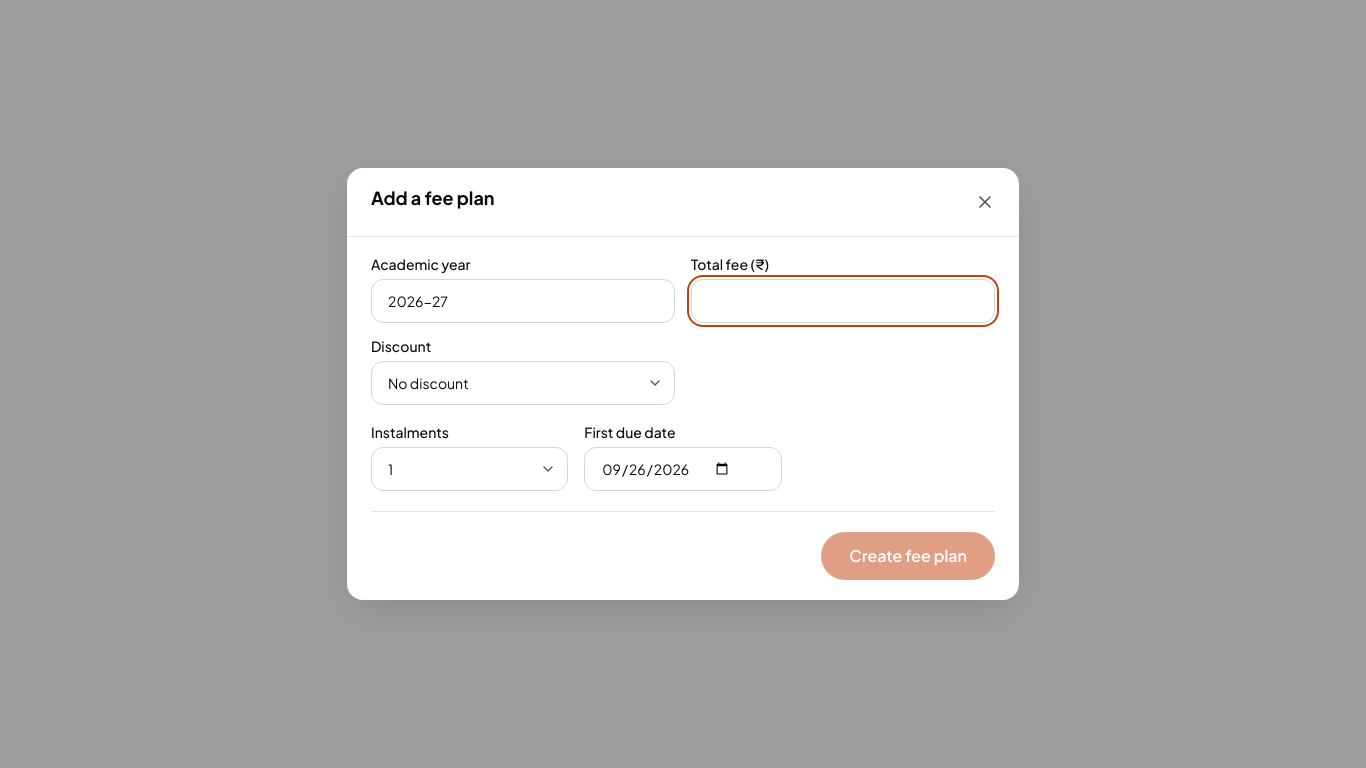
Test case: FeePlanDialog › will not create a plan whose instalments do not add up
This screenshot has width=1366, height=768.
Type "10000" into the field labelled "Total fee (₹)".
click(843, 301); type("10000")  # box [691,279,995,323]
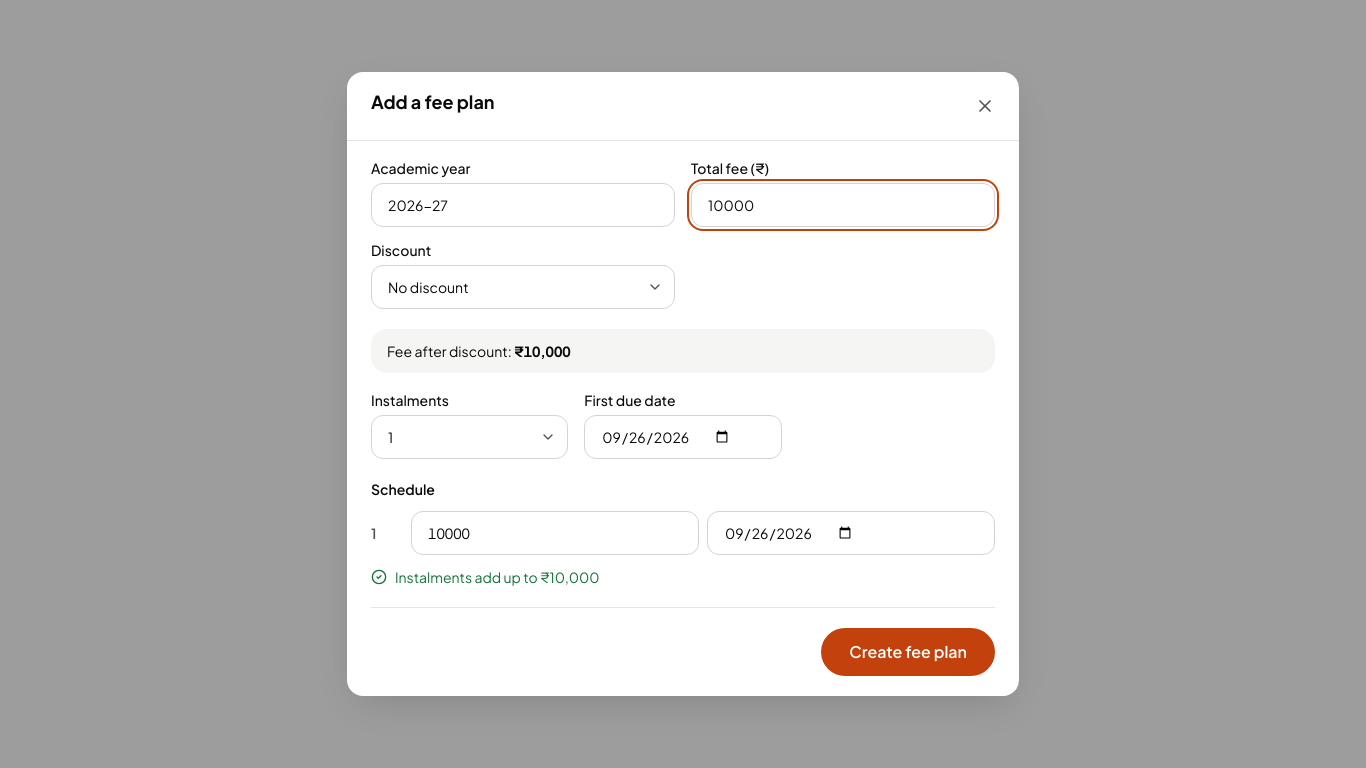
Select "2" in the dropdown labelled "Instalments" at [470, 437], box [371,415,568,459]
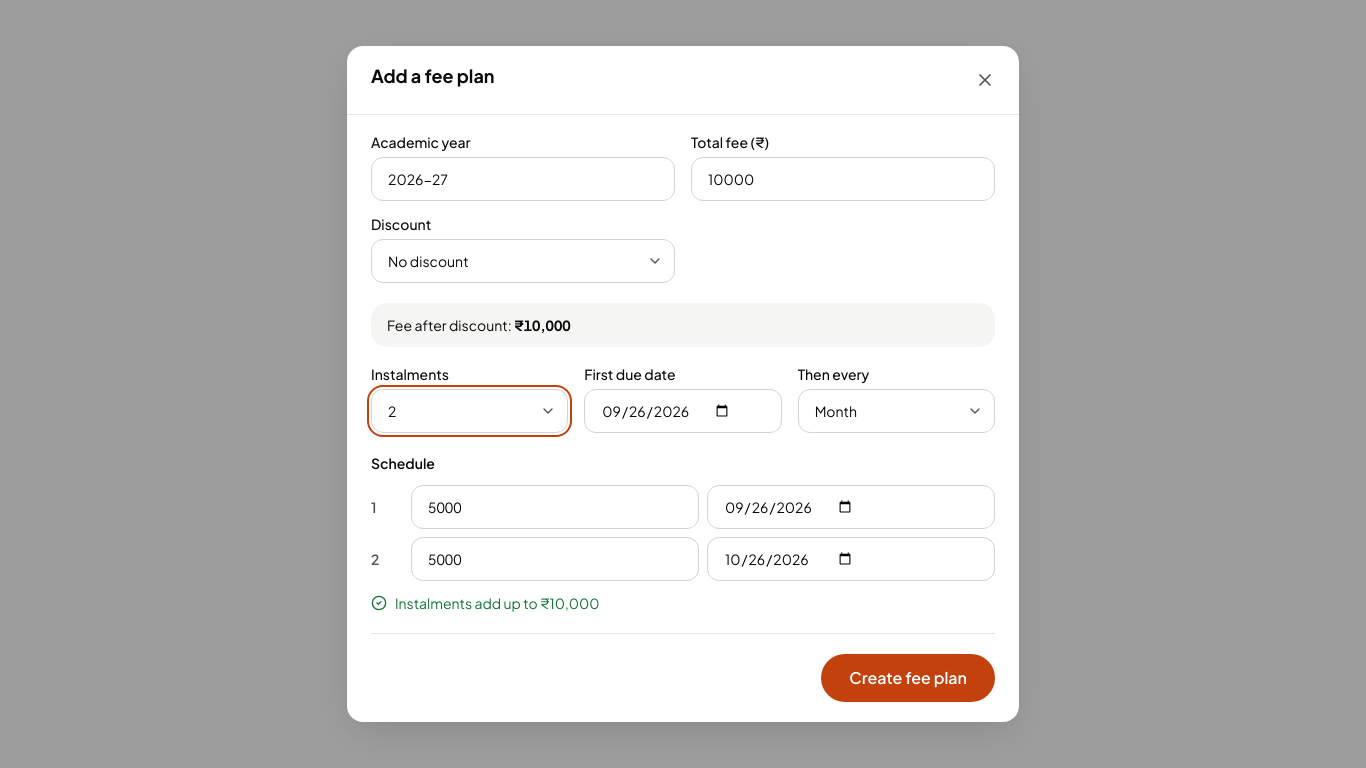
Clear the field named "Amount for instalment 1" at [555, 507], box [411,485,699,529]
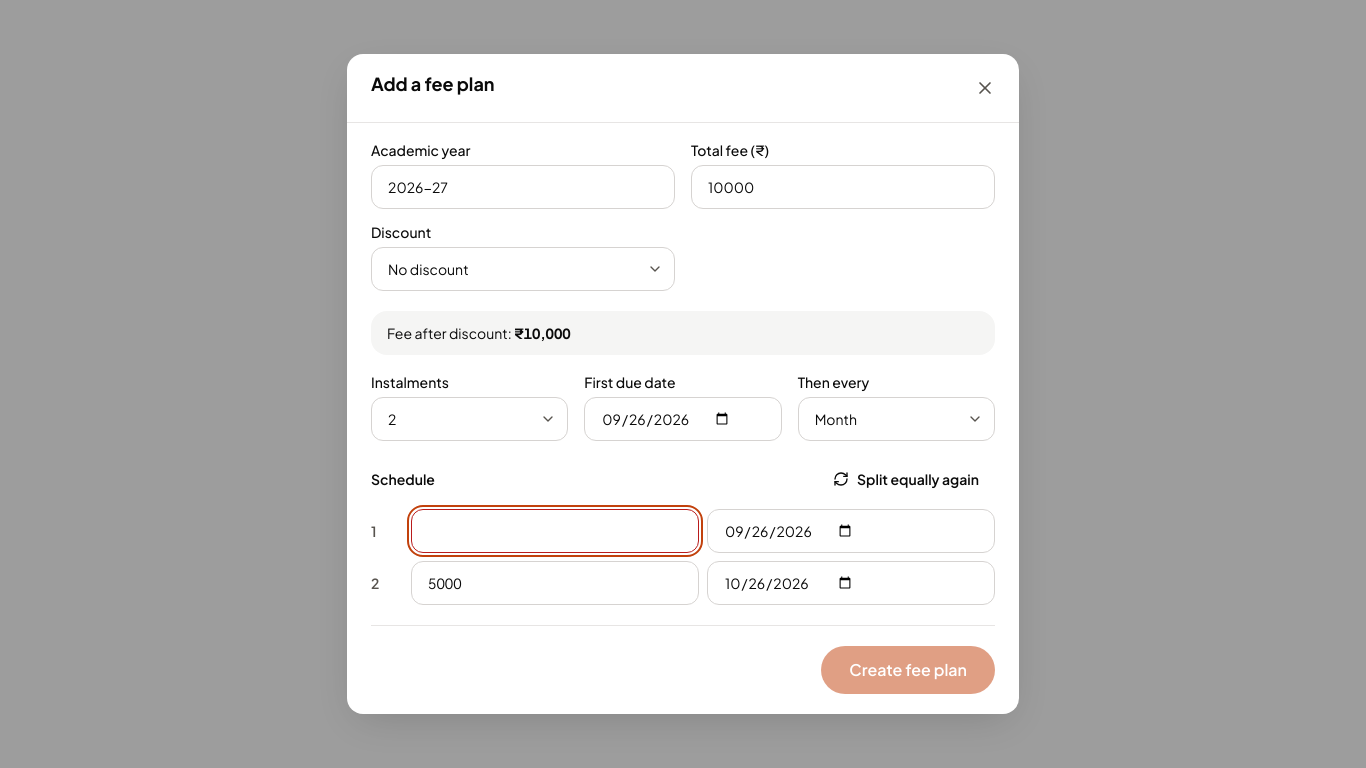
Type "6000" into the field named "Amount for instalment 1".
click(555, 531); type("6000")  # box [411,509,699,553]
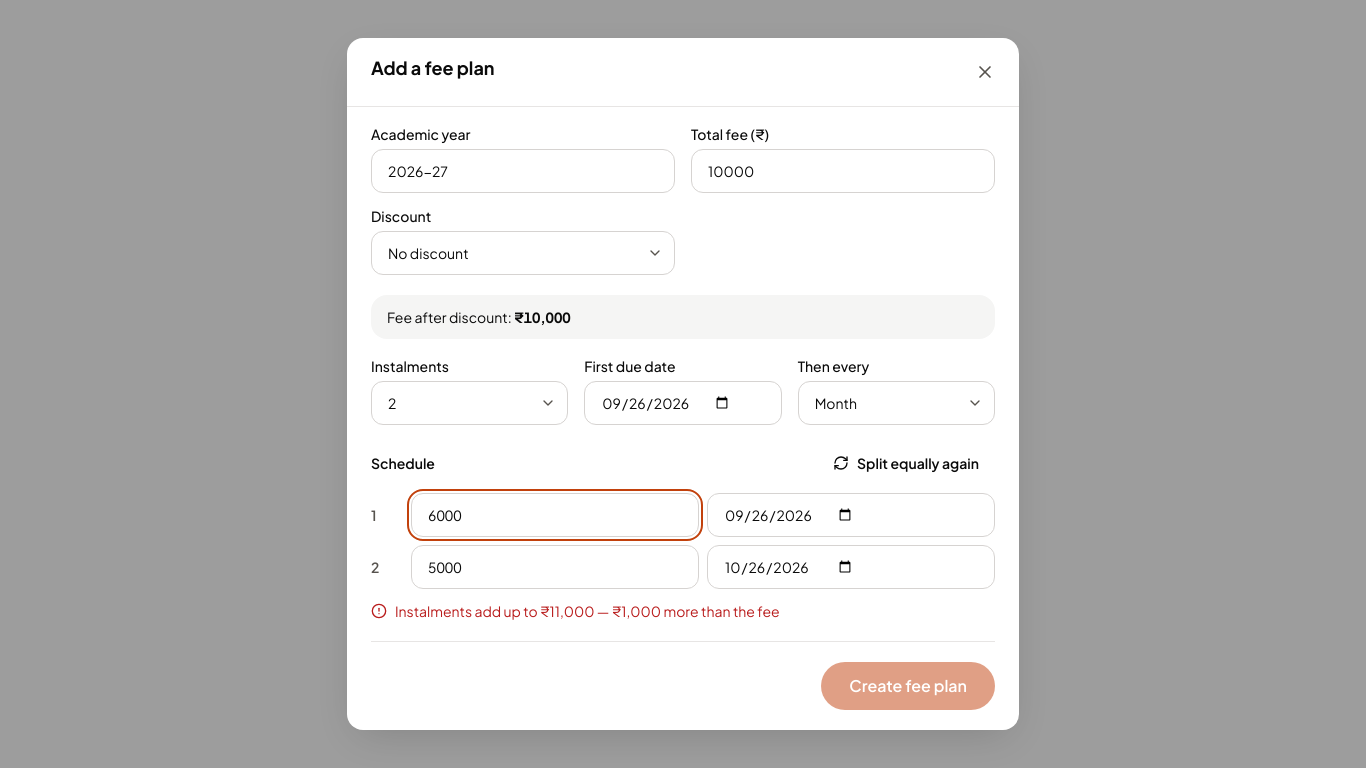
Expected: the button "Create fee plan" is disabled, [821,662,995,710]
Expected: the message shows "₹11,000 — ₹1,000 more than the fee", [395,602,780,620]
Click the button "Split equally again".
click(906, 463)  # box [817,445,995,481]
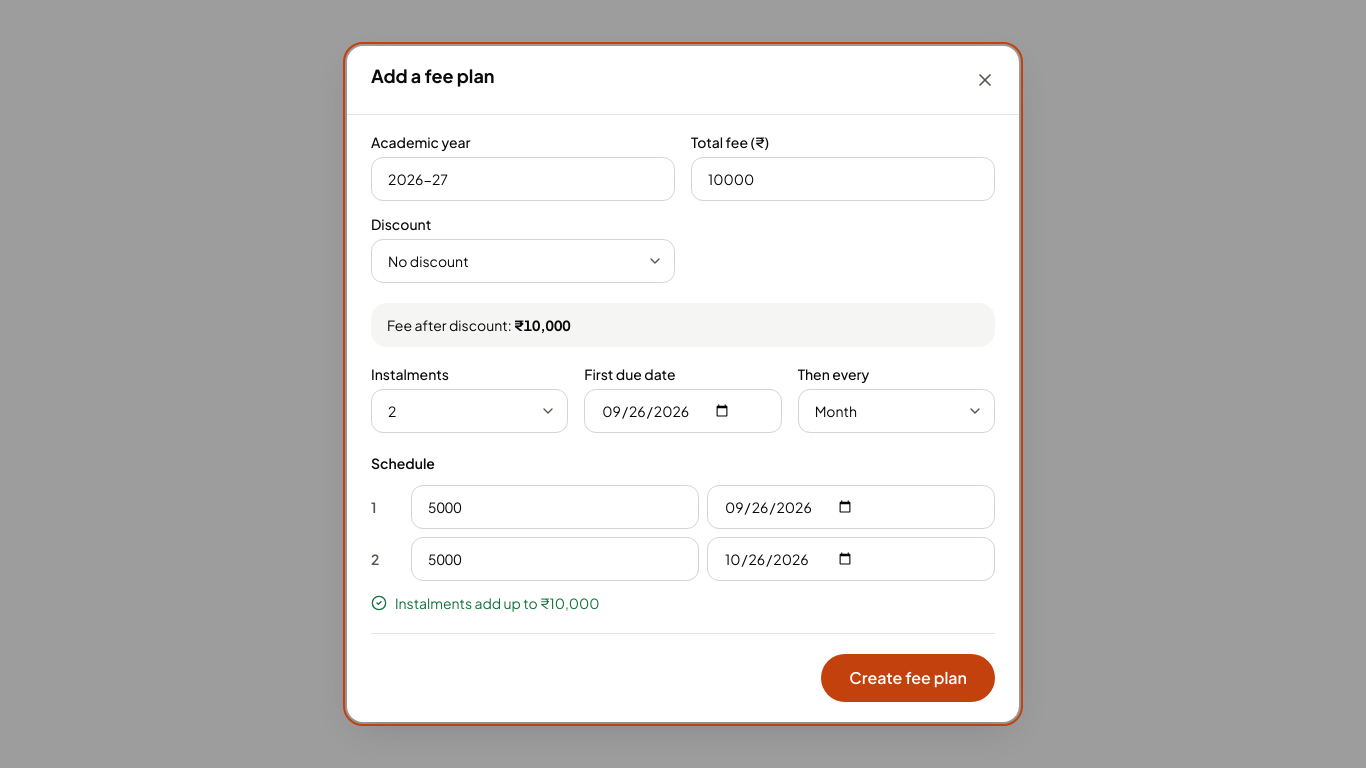
Expected: the field named "Amount for instalment 1" holds "5000", [411,485,699,529]
